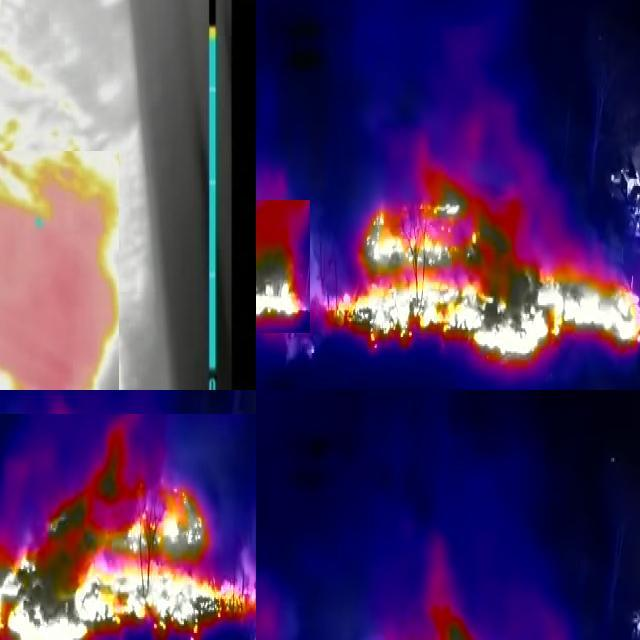fire: (325, 166, 640, 362), (1, 415, 257, 640), (1, 152, 120, 391), (257, 201, 311, 334)
